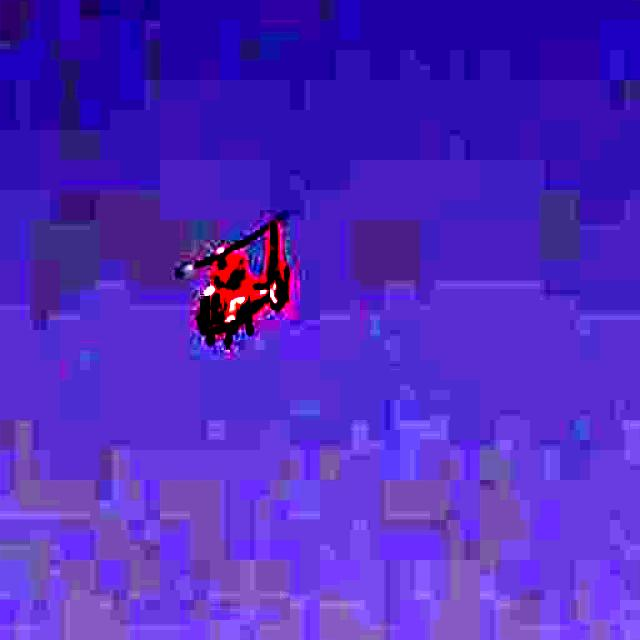drone: (132, 178, 359, 378)
